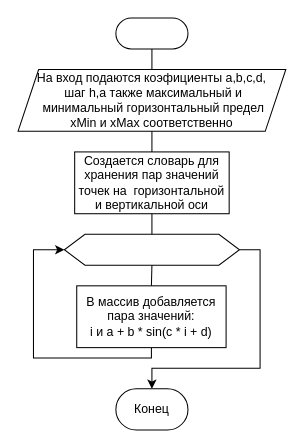
The diagram is 304 pixels wide and 448 high, and some of its shapes have lost their labels. The centre of each missing label's shape, as x and y in pixels:
"Для i = xMin; i<xMx; i+h;" goes at point 151,249.
"Начало" goes at point 151,33.
